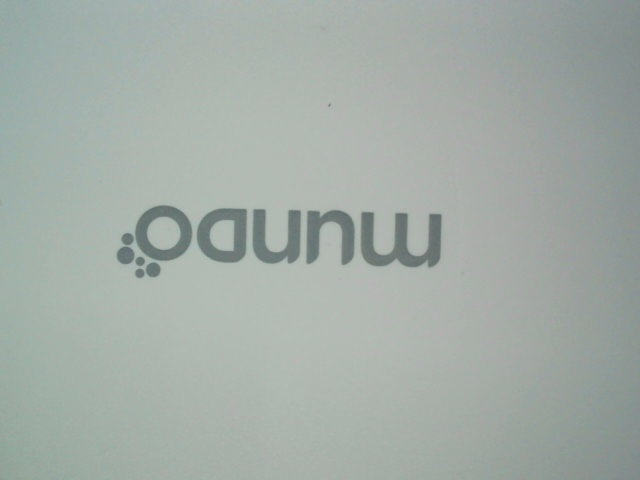BI_MUNDO: (104, 189, 461, 287)
